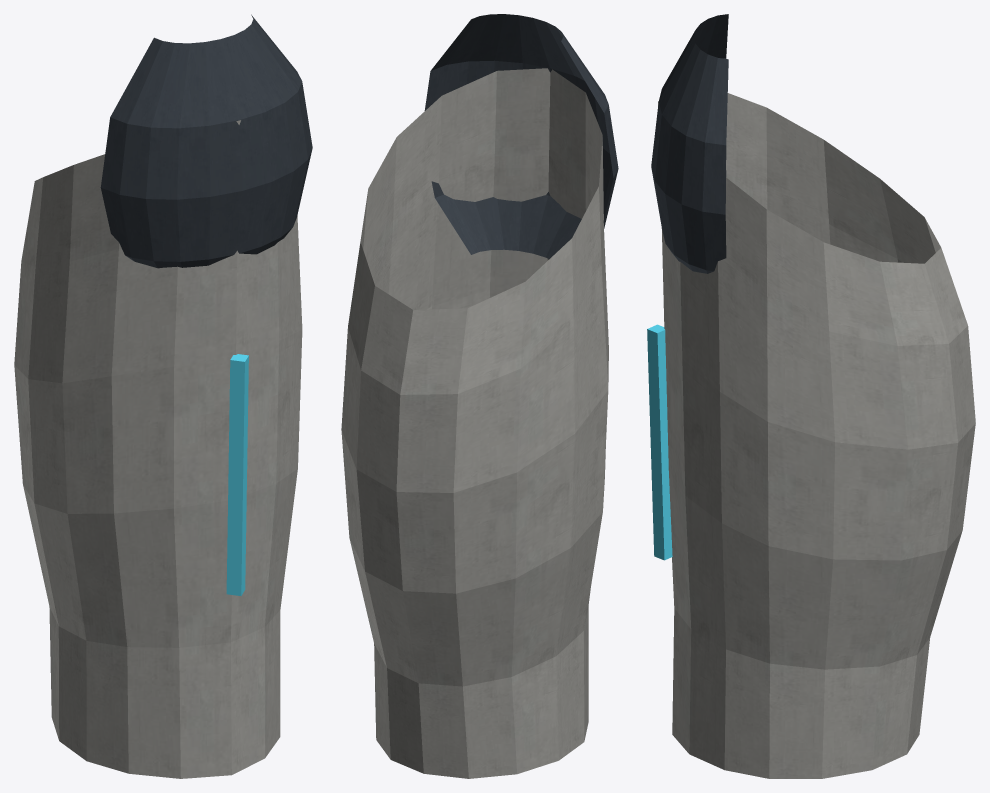
Rendered from eq_future_2_leg.glb.
The picture shows the model from 3 angles, left to right: view 1: azimuth 30°, elevation 25°; view 2: azimuth 150°, elevation 25°; view 3: azimuth 270°, elevation 25°; orthographic projection. The views are drawn at different scales.
Parts seen in each view (by area): view 1: eq_future_2_leg; view 2: eq_future_2_leg; view 3: eq_future_2_leg.
Part boxes in pixels (left/top/right/bottom): eq_future_2_leg: left=14, top=14, right=312, bottom=778; eq_future_2_leg: left=341, top=14, right=618, bottom=778; eq_future_2_leg: left=647, top=14, right=975, bottom=778.
Bounding box in the file's own units: 0.1539 × 0.4472 × 0.1909.
3 materials, 3 textured.
